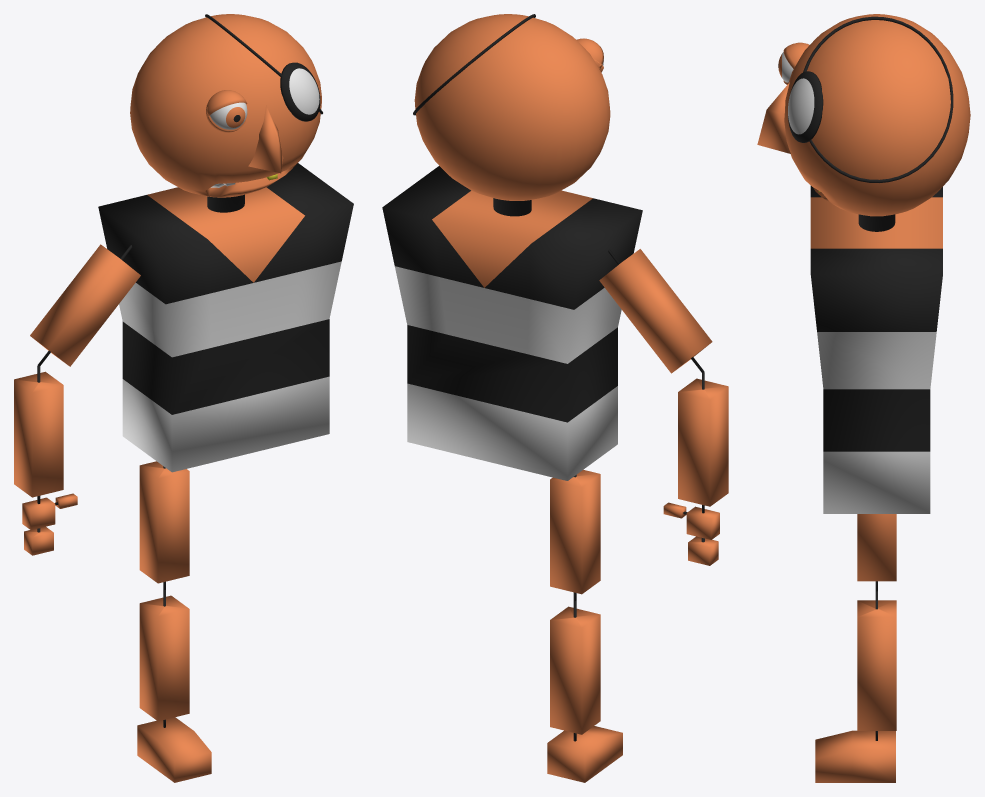
Rendered from Pirate3.fbx.
3 views of the same model, side by side, from view 1: azimuth 30°, elevation 25°; view 2: azimuth 150°, elevation 25°; view 3: azimuth 270°, elevation 25° (orthographic). The views are drawn at different scales.
Parts seen in each view (by area): view 1: Body, Head, HandTopR, LegBottomR, HandBottomR, LegTopR, FootR, Sphere, Nose, PalmR, Eye, FingerR; view 2: Body, Head, HandTopR, LegBottomR, HandBottomR, LegTopR, FootR, PalmR, FingerR; view 3: Body, Head, LegBottomR, FootR, Sphere, LegTopR, Nose, Eyelash2R.
Part boxes in pixels (box(x1,y1,x2,y2)): Body: box(98, 163, 353, 472); Head: box(130, 14, 321, 212); HandTopR: box(30, 244, 140, 366); LegBottomR: box(139, 589, 189, 721); HandBottomR: box(14, 365, 63, 497); LegTopR: box(139, 461, 189, 589); FootR: box(137, 717, 211, 782); Sphere: box(205, 14, 322, 121); Nose: box(248, 105, 283, 173); PalmR: box(22, 496, 55, 530); Eye: box(210, 102, 247, 129); FingerR: box(24, 526, 53, 555); Body: box(382, 166, 642, 480); Head: box(414, 14, 610, 216); HandTopR: box(599, 249, 712, 373); LegBottomR: box(550, 600, 600, 734); HandBottomR: box(678, 372, 728, 506); LegTopR: box(550, 470, 600, 600); FootR: box(547, 726, 622, 782); PalmR: box(686, 505, 719, 539); FingerR: box(688, 536, 718, 565); Body: box(810, 186, 942, 513); Head: box(784, 14, 970, 231); LegBottomR: box(857, 591, 896, 730); FootR: box(815, 730, 895, 782); Sphere: box(788, 16, 953, 182); LegTopR: box(857, 514, 896, 591); Nose: box(757, 82, 790, 153); Eyelash2R: box(783, 42, 809, 68).
Size of the model in its own units: 356 by 819 by 202.
